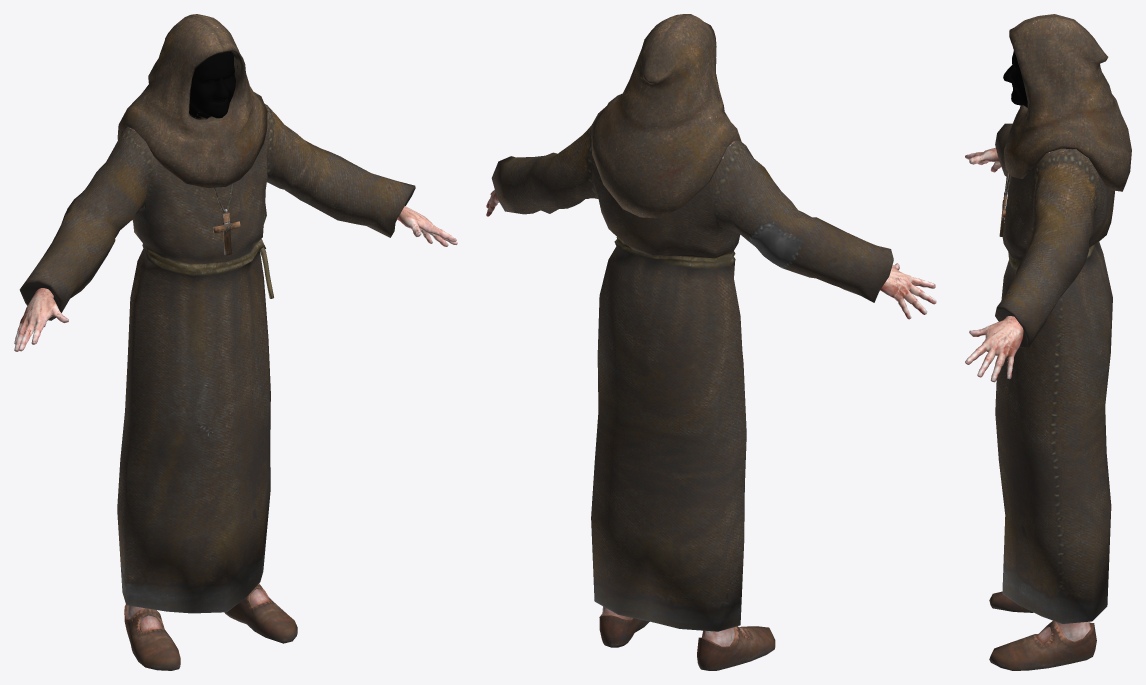
The model's file is monk.glb.
The picture shows the model from 3 angles, left to right: view 1: azimuth 30°, elevation 25°; view 2: azimuth 150°, elevation 25°; view 3: azimuth 270°, elevation 25°; orthographic projection.
Visible parts, largest first — view 1: MonkModel; view 2: MonkModel; view 3: MonkModel.
Boxes of the visible parts, left/top/right/bottom form: MonkModel: left=14, top=14, right=457, bottom=670; MonkModel: left=486, top=14, right=936, bottom=670; MonkModel: left=965, top=14, right=1131, bottom=670.
Bounding box in the file's own units: 143 × 191 × 46.88.
Materials: 1 (1 with a texture image).
